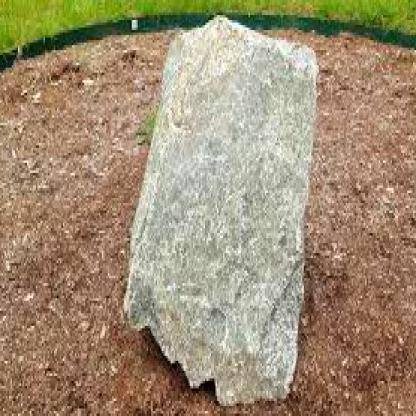Igneous_Diorite: (121, 2, 322, 411)
